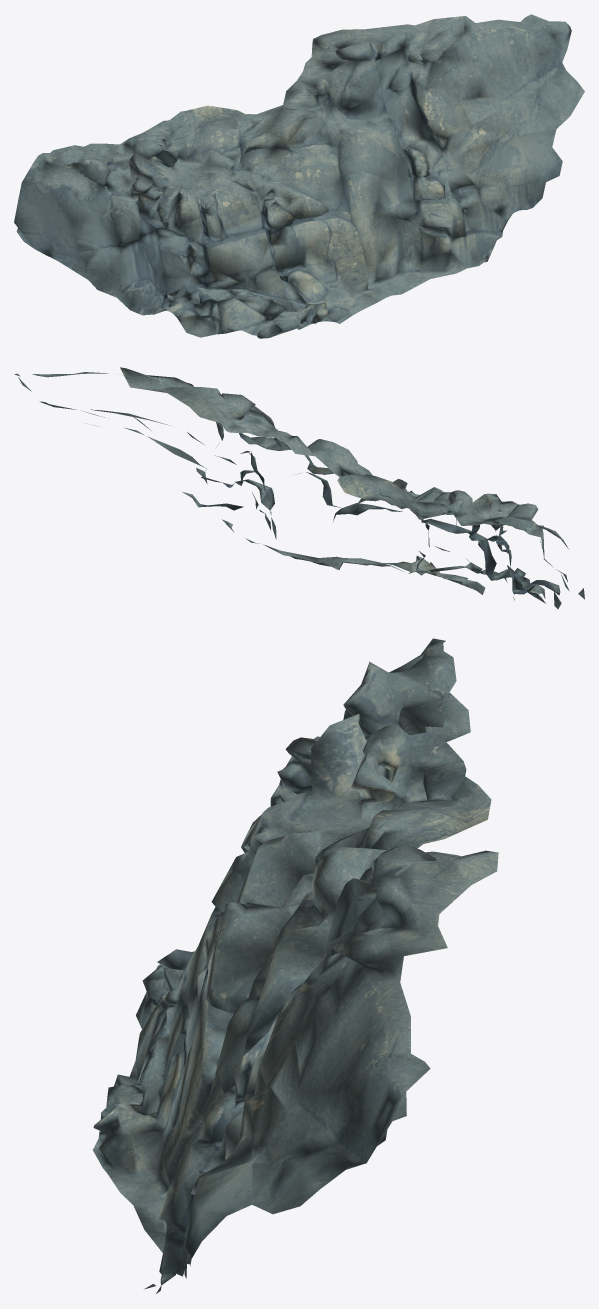
File: cliff-far.glb
3 renders of one model, top to bottom at view 1: azimuth 30°, elevation 25°; view 2: azimuth 150°, elevation 25°; view 3: azimuth 270°, elevation 25°, orthographic. The views are drawn at different scales.
Parts seen in each view (by area): view 1: drone_rock_02_LOD0; view 2: drone_rock_02_LOD0; view 3: drone_rock_02_LOD0.
Boxes of the visible parts, x1,y1,x2,y2 form: drone_rock_02_LOD0: [14, 14, 584, 338]; drone_rock_02_LOD0: [14, 367, 584, 609]; drone_rock_02_LOD0: [93, 638, 498, 1293].
Size of the model in its own units: 45.02 by 15.96 by 14.65.
1 material, 1 textured.
